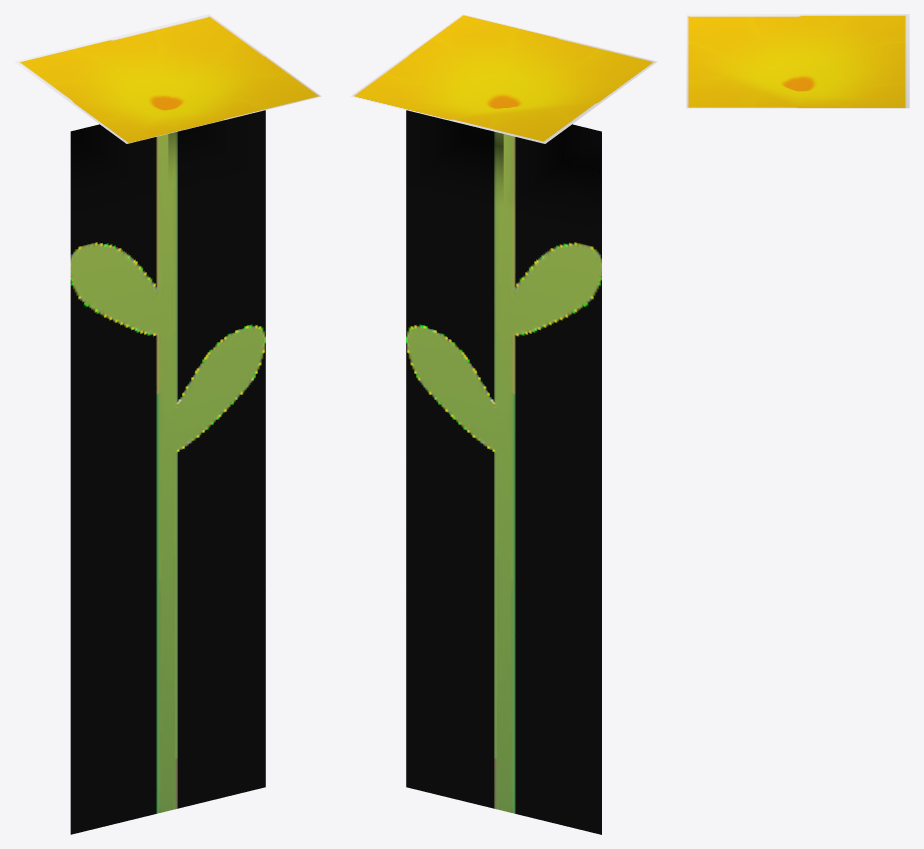
The model's file is Flower_02.fbx.
The picture shows the model from 3 angles, left to right: view 1: azimuth 30°, elevation 25°; view 2: azimuth 150°, elevation 25°; view 3: azimuth 270°, elevation 25°; orthographic projection.
Parts seen in each view (by area): view 1: Flower_02; view 2: Flower_02; view 3: Flower_02.
Part boxes in pixels (bbox=[...]): Flower_02: bbox=[14, 14, 321, 834]; Flower_02: bbox=[350, 14, 657, 834]; Flower_02: bbox=[686, 14, 909, 108].
Size of the model in its own units: 0.1053 by 0.376 by 0.1049.
